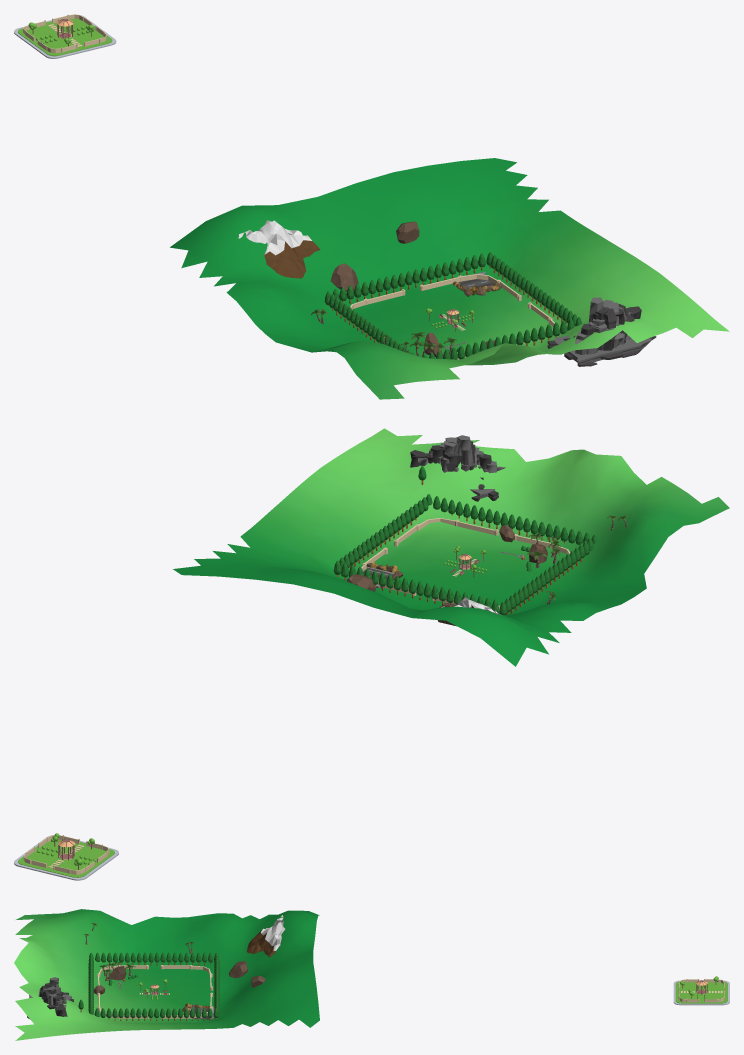
File: park_scene.glb
3 views of the same model, one above another, from view 1: azimuth 30°, elevation 25°; view 2: azimuth 150°, elevation 25°; view 3: azimuth 270°, elevation 25° (orthographic). The views are drawn at different scales.
Parts seen in each view (by area): view 1: infrastructure-building-park.002; view 2: infrastructure-building-park.002; view 3: infrastructure-building-park.002.
Part boxes in pixels (x1,y1,x2,y2): infrastructure-building-park.002: (14, 14, 729, 399); infrastructure-building-park.002: (14, 428, 729, 880); infrastructure-building-park.002: (14, 909, 729, 1040).
Bounding box in the file's own units: 134 × 22.21 × 332.
Materials: 11 (5 with a texture image).
